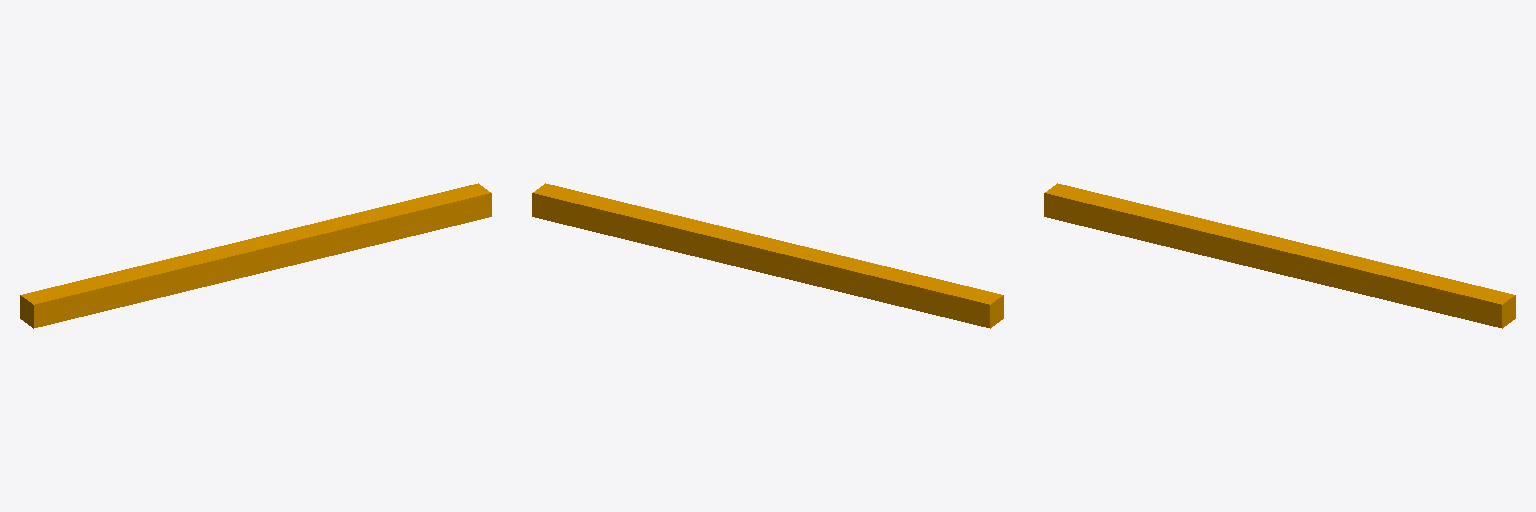
URDF robot description (box_Demo):
<?xml version="1.0"?>



<robot name="box_Demo">

<gazebo reference="box">
      <turnGravityOff>true</turnGravityOff>

    </gazebo>
<static>true</static>
  <link name="box">
    <visual>
      <geometry>
	<box size="0.1 0.005 0.005" />
      </geometry>
    <origin rpy="0 0 0" xyz="-0.00680 -0.00904 0.00152"/>
    </visual>

    <inertial>
      <origin xyz = "0 0 0" rpy="0 0 0"/>
      <mass value = "1000"/>
      <inertia
          ixx = "1000"
          ixy = "0"
          ixz = "0"
          iyy = "1000"
          iyz = "0"
          izz = "1000"
          />
    </inertial>

    <collision>
      <geometry>
        <box size="0.1 0.005 0.005" />
      </geometry>

    <origin rpy="0 0 0" xyz="-0.00680 -0.00904 0.00152"/>
    </collision>

  </link>
</robot>

--- Render facts (derived) ---
The picture shows the robot from 3 angles, left to right: view 1: azimuth 30°, elevation 25°; view 2: azimuth 150°, elevation 25°; view 3: azimuth 330°, elevation 25°; orthographic projection.
Model box_Demo with 1 links and 0 joints (none), rooted at box, posed every joint at zero.
Links seen in each view (by area): view 1: box; view 2: box; view 3: box.
Boxes of the visible links, bbox=[...] form: box: bbox=[20, 183, 491, 328]; box: bbox=[532, 183, 1003, 328]; box: bbox=[1044, 183, 1515, 328].
Bounding box of the posed robot: 0.1 × 0.005 × 0.005 m (x, y, z).
Geometry: primitives only (box / cylinder / sphere), no mesh files.